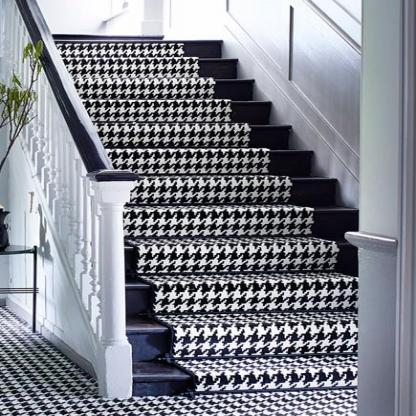stair: (50, 24, 383, 399)
